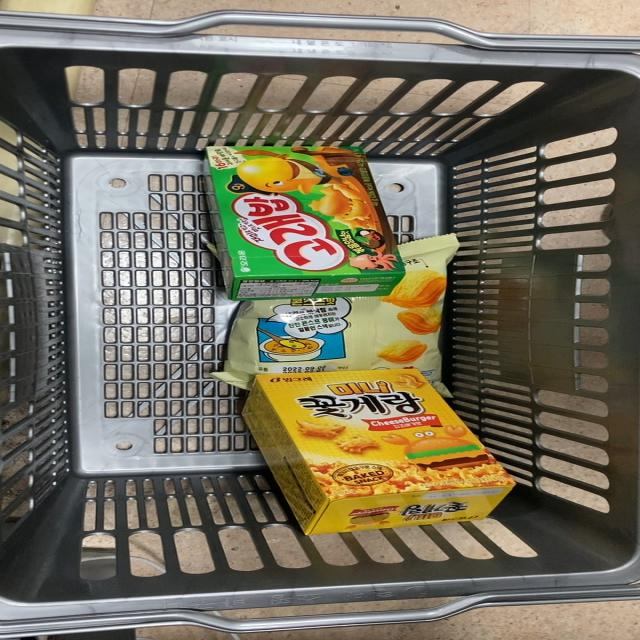ggobukchip: (208, 286, 453, 375)
goraebob: (188, 137, 406, 298)
minicrab: (215, 375, 546, 527)
